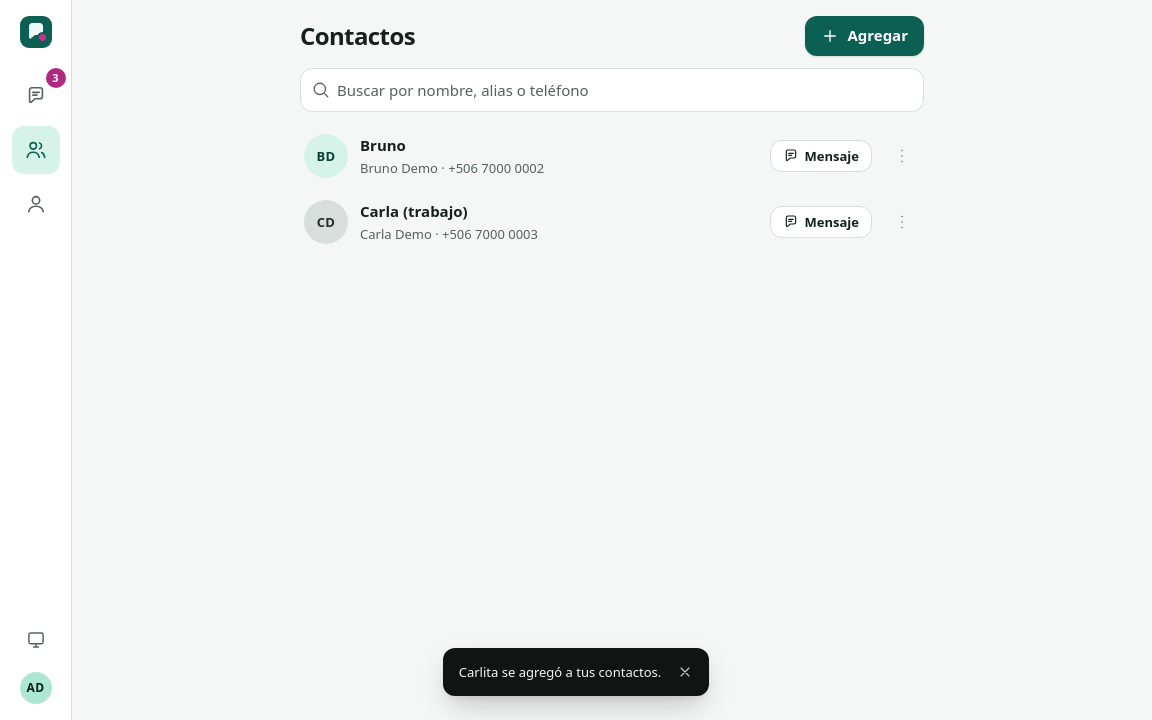
Test: contactos › bloquear un contacto lo marca y aparece en la sección de bloqueados
Click the button named "Opciones de Bruno" at {"x": 902, "y": 156}, box [884,138,920,174]
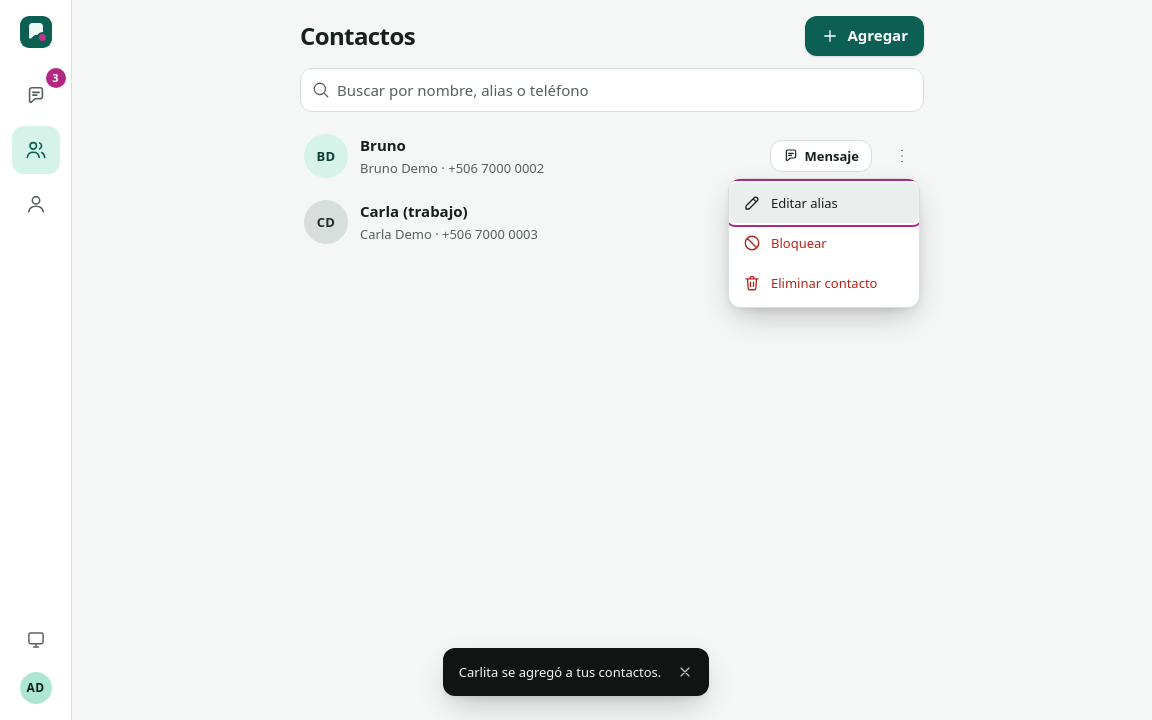
Click the menu item "Bloquear" at {"x": 824, "y": 243}, box [729,223,919,263]
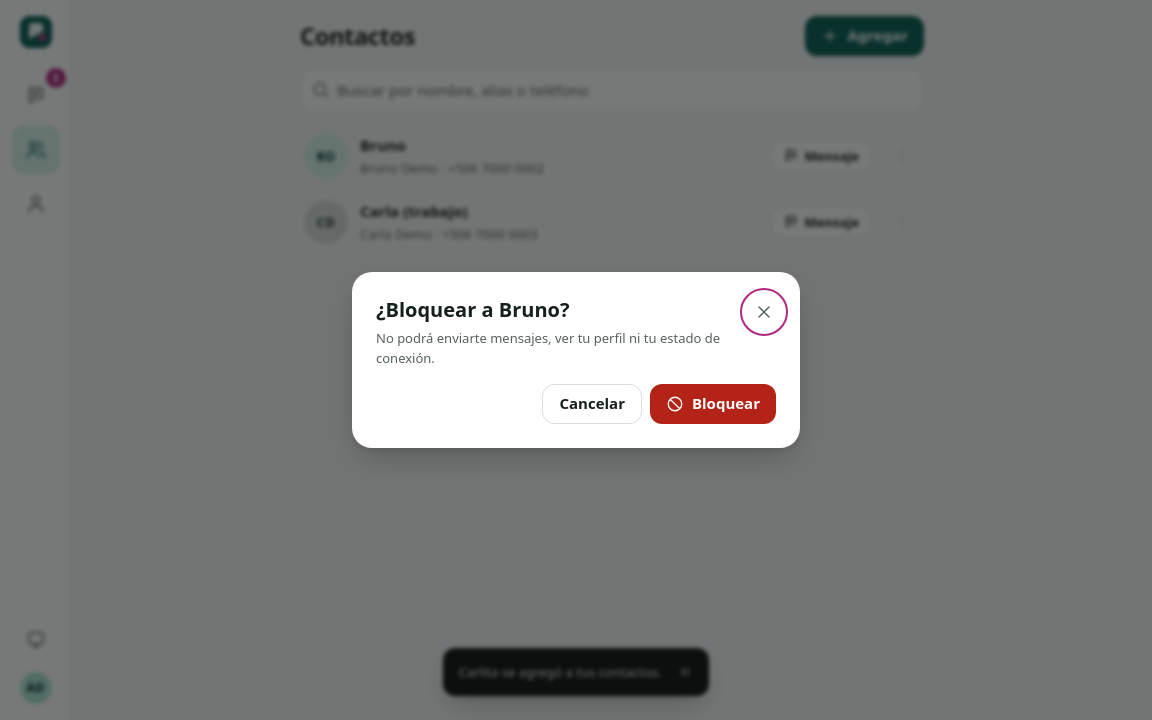
Click the button "Bloquear" at {"x": 713, "y": 404}, box [650,384,776,424]
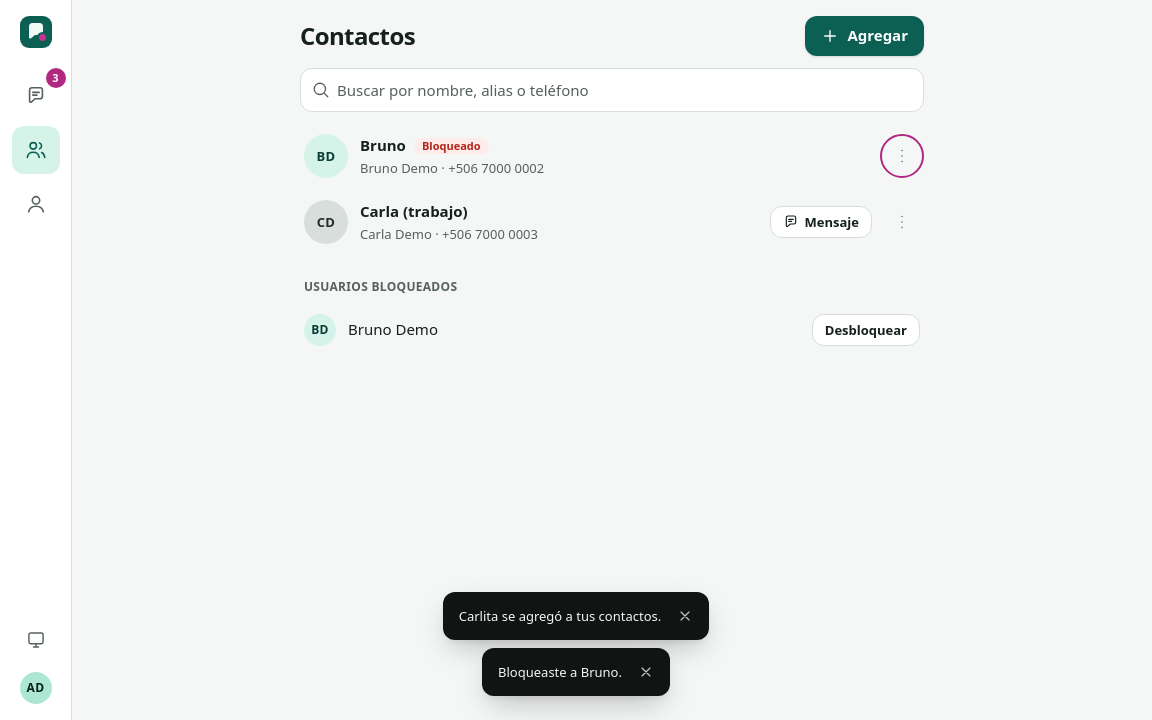
Now the text "Bruno Demo" is shown, box [348,319,438,339]
Now the text "Bloqueado" is shown, box [414,138,489,154]
